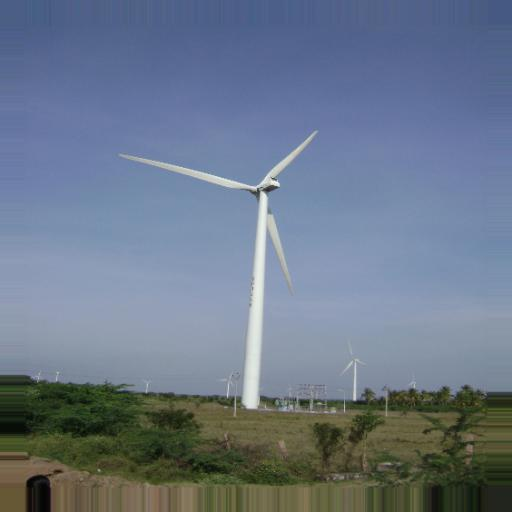wind turbine: (119, 130, 321, 414), (341, 339, 370, 403)
